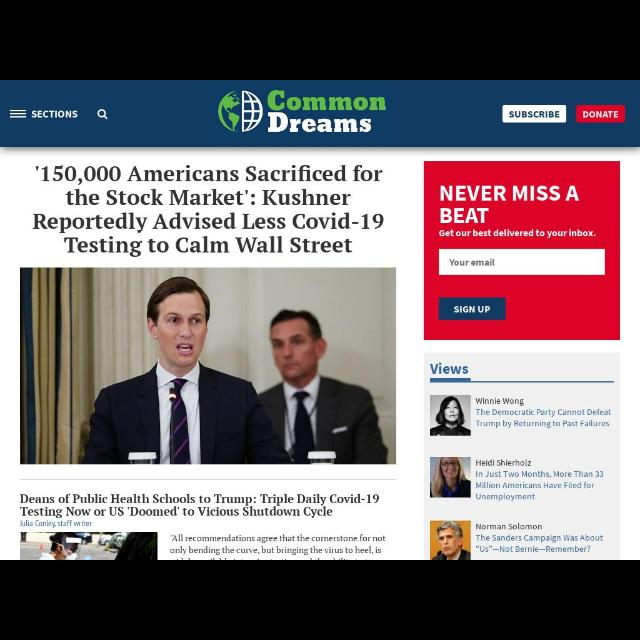icon: (9, 108, 27, 118), (96, 110, 108, 120)
image: (20, 268, 398, 464), (220, 88, 386, 134), (21, 533, 158, 559), (431, 457, 472, 498), (430, 395, 470, 435), (430, 521, 470, 559)
text: (32, 166, 384, 254), (21, 492, 380, 518), (440, 182, 580, 224), (168, 534, 386, 556), (474, 470, 604, 500), (476, 408, 610, 428), (476, 534, 602, 554), (439, 228, 597, 240), (20, 520, 91, 528), (476, 522, 542, 530), (510, 110, 560, 120), (429, 362, 469, 374), (476, 396, 524, 406), (449, 258, 495, 268), (476, 458, 530, 466), (454, 304, 492, 314), (32, 110, 78, 118), (583, 110, 619, 118)
textbutton: (440, 298, 504, 318), (502, 105, 566, 123), (576, 107, 624, 121)
toolbar: (1, 81, 639, 145)
